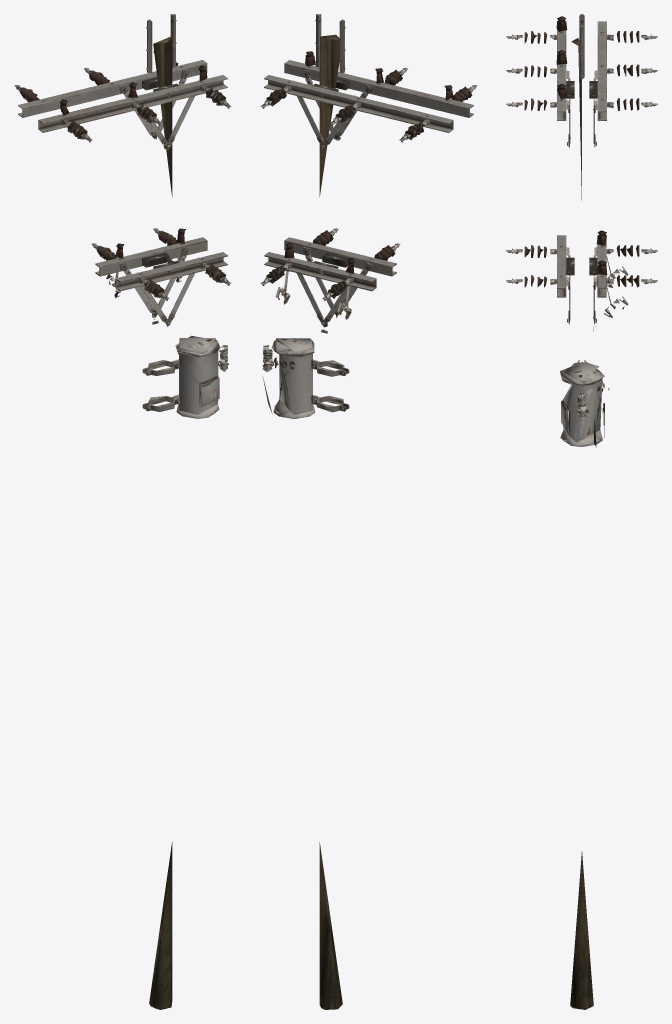
File: utility_pole_b.glb
3 views of the same model, side by side, from view 1: azimuth 30°, elevation 25°; view 2: azimuth 150°, elevation 25°; view 3: azimuth 270°, elevation 25° (orthographic).
Visible parts, largest first — view 1: preset_03_cap, preset_03_pole; view 2: preset_03_cap, preset_03_pole; view 3: preset_03_cap, preset_03_pole.
Part boxes in pixels (x1,y1,x2,y2): preset_03_cap: (14, 14, 231, 418); preset_03_pole: (149, 36, 172, 1009); preset_03_cap: (260, 14, 477, 418); preset_03_pole: (319, 34, 342, 1009); preset_03_cap: (506, 14, 657, 447); preset_03_pole: (570, 38, 593, 1009).
Bounding box in the file's own units: 1.29 × 6.13 × 0.8522.
2 materials, 2 textured.
